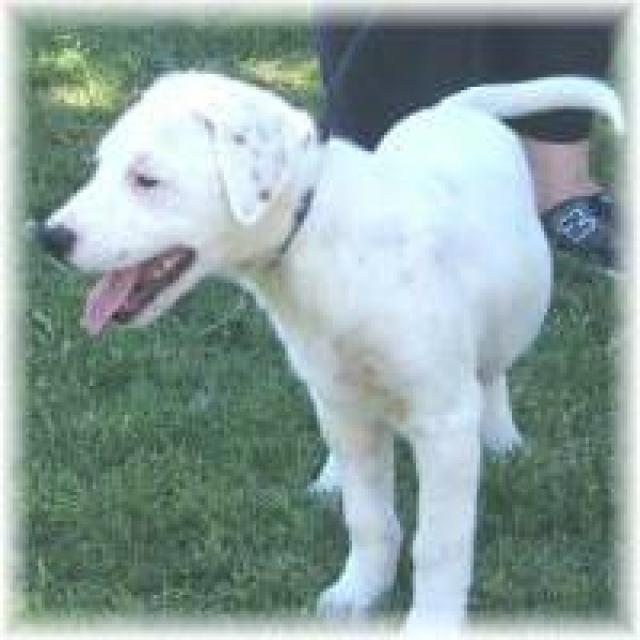dog: (25, 64, 620, 637)
